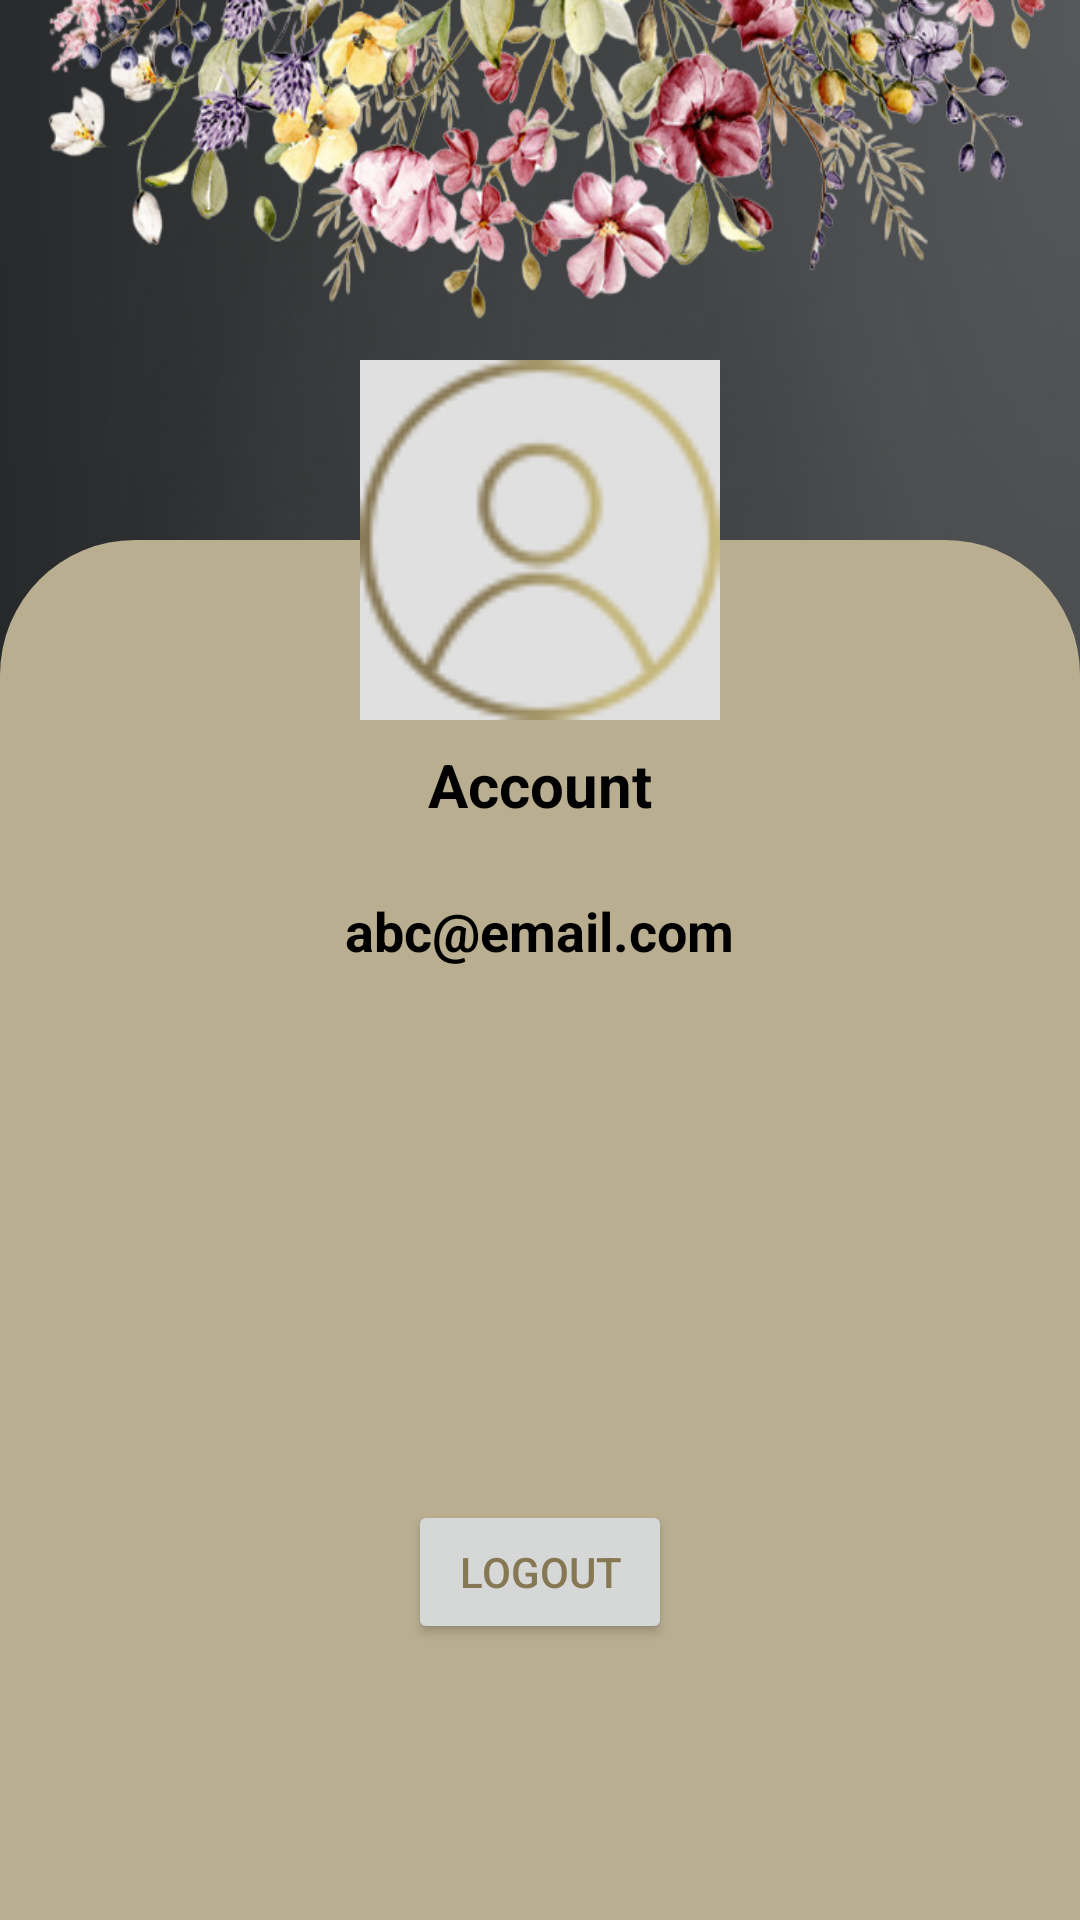

Where to tap for icons on this 1080*1920 app screen, as [x,y]:
profile: [540,540]
